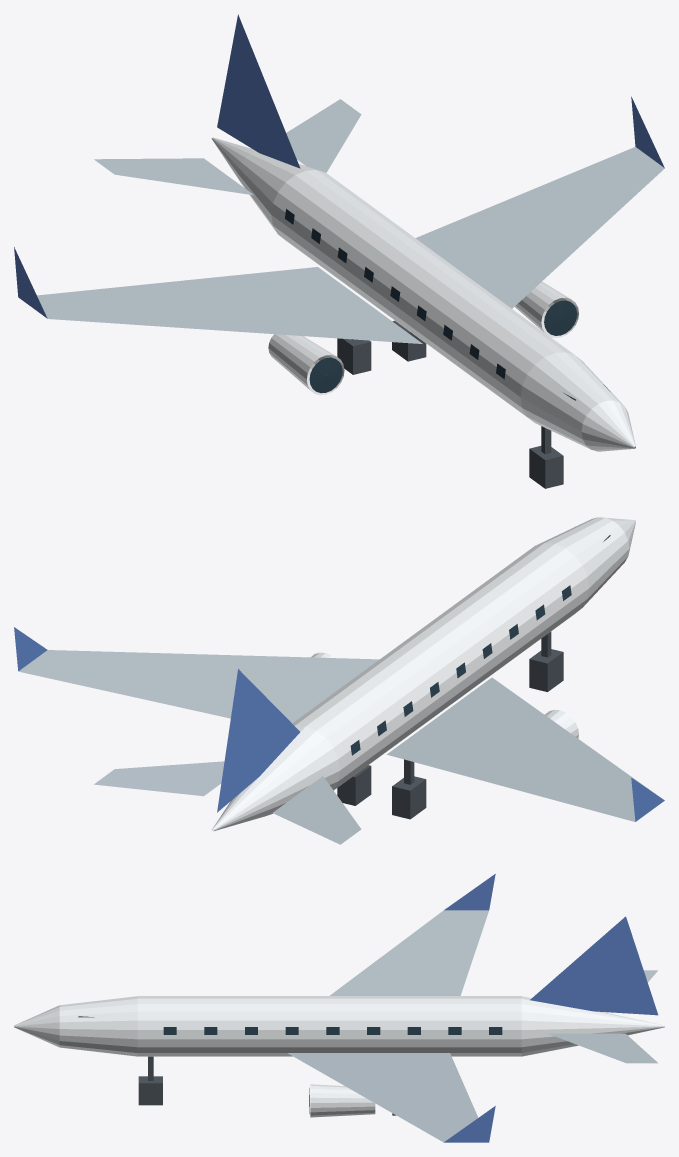
Rendered from regional-SWA.gltf.
The picture shows the model from 3 angles, top to bottom: view 1: azimuth 30°, elevation 25°; view 2: azimuth 150°, elevation 25°; view 3: azimuth 270°, elevation 25°; orthographic projection. The views are drawn at different scales.
Parts seen in each view (by area): view 1: object 1, Gear; view 2: object 1, Gear; view 3: object 1, Gear.
Part boxes in pixels (x1=…): object 1: x1=14, y1=14, x2=664, y2=451; Gear: x1=337, y1=320, x2=563, y2=488; object 1: x1=14, y1=517, x2=664, y2=844; Gear: x1=337, y1=631, x2=563, y2=819; object 1: x1=14, y1=874, x2=664, y2=1142; Gear: x1=138, y1=1056, x2=395, y2=1115.
Bounding box in the file's own units: 27 × 10.08 × 32.
